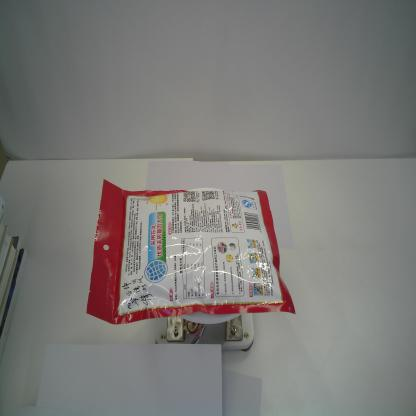Instant Drink: (85, 178, 299, 328)
